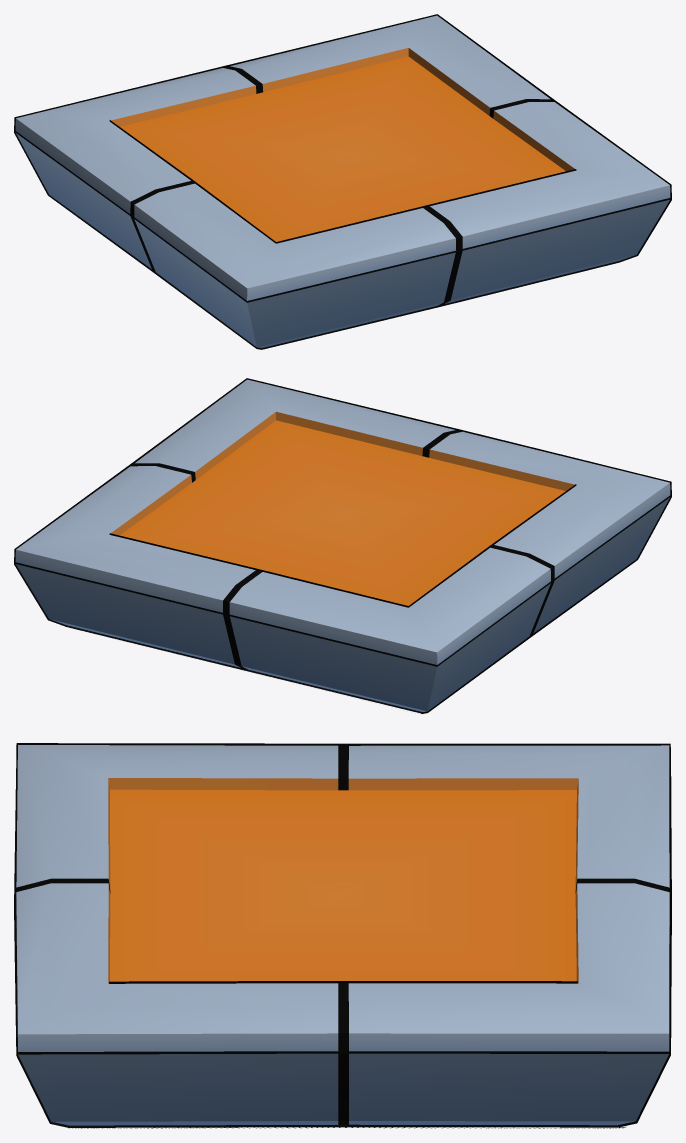
File: pm-platform-stairs-platform.glb
3 views of the same model, one above another, from view 1: azimuth 30°, elevation 25°; view 2: azimuth 150°, elevation 25°; view 3: azimuth 270°, elevation 25° (orthographic). The views are drawn at different scales.
Visible parts, largest first — view 1: Platform_StairsPlatform; view 2: Platform_StairsPlatform; view 3: Platform_StairsPlatform.
Boxes of the visible parts, x1,y1,x2,y2 form: Platform_StairsPlatform: (14, 14, 671, 349); Platform_StairsPlatform: (14, 378, 671, 713); Platform_StairsPlatform: (14, 743, 671, 1128).
Bounding box in the file's own units: 2.63 × 0.5354 × 2.51.
Materials: 3 (2 with a texture image).
